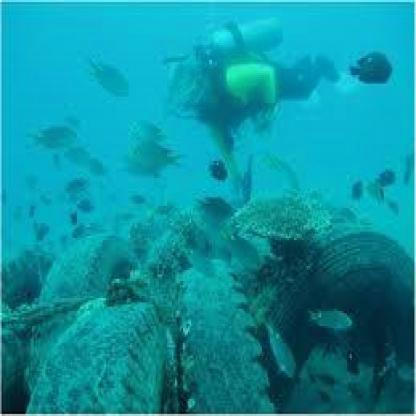tire: (241, 206, 416, 416), (54, 285, 196, 416), (45, 223, 161, 347)
